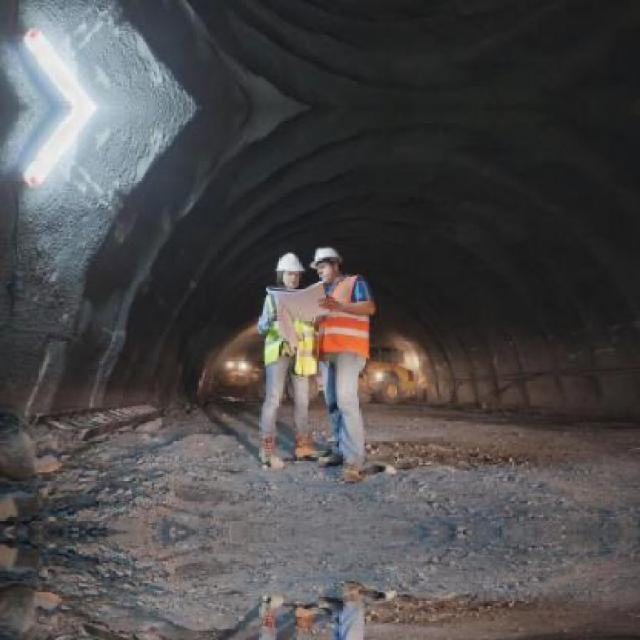helmet: (276, 249, 310, 291), (312, 243, 343, 282)
